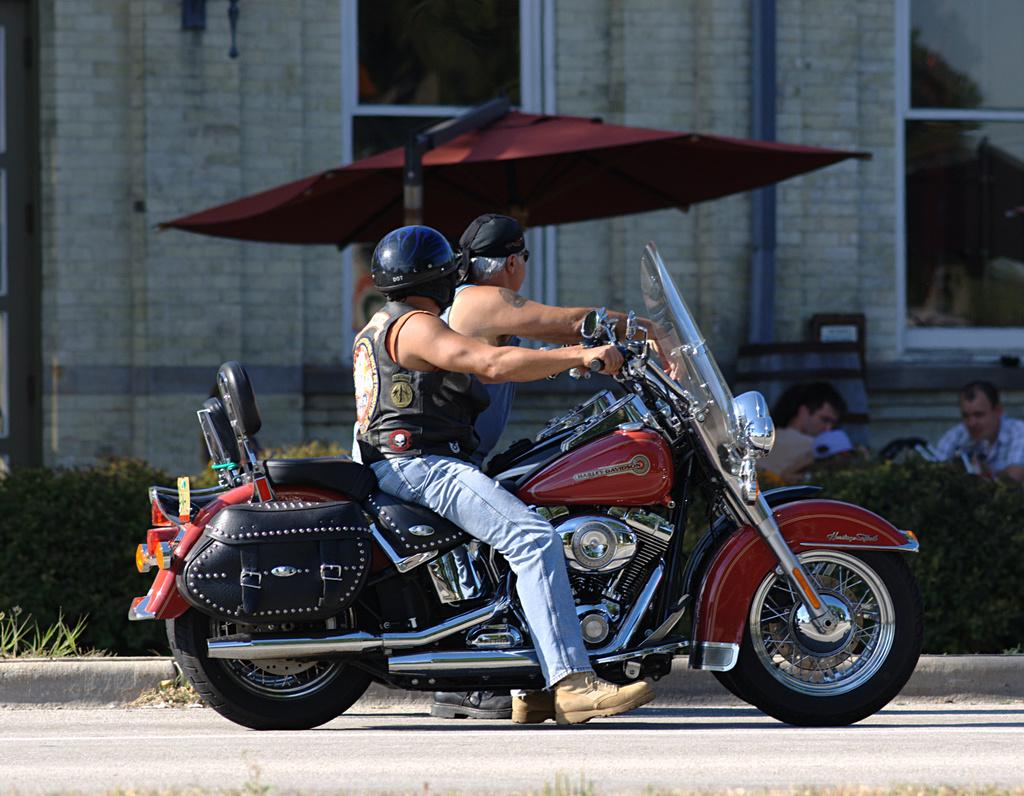helmet: (370, 225, 463, 311)
nohelmet: (459, 213, 530, 297), (790, 381, 847, 445), (957, 379, 1005, 443)
